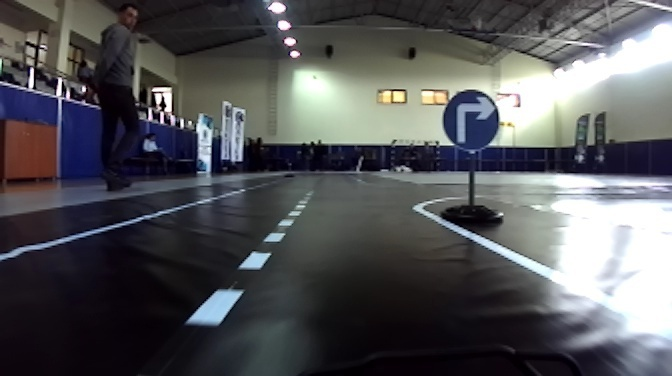saga_donus: (439, 89, 501, 152)
